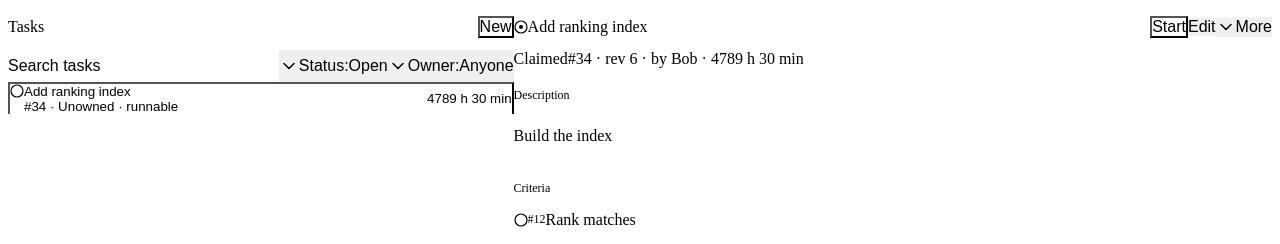
Test: Task work board › shows one primary claimed action and moves release into More
The image size is (1280, 244).
Expected: the heading "Add ranking index" is shown, [528,18,648,35]
Expected: the text "Claimed" is shown, [514,50,568,68]
Click the button "More" at (1244, 27), box [1216,17,1272,37]
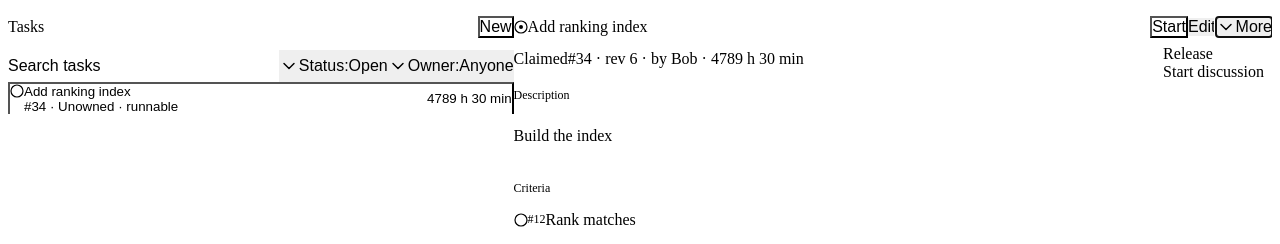
Expected: the option "Release" is shown, [1163,45,1213,62]
